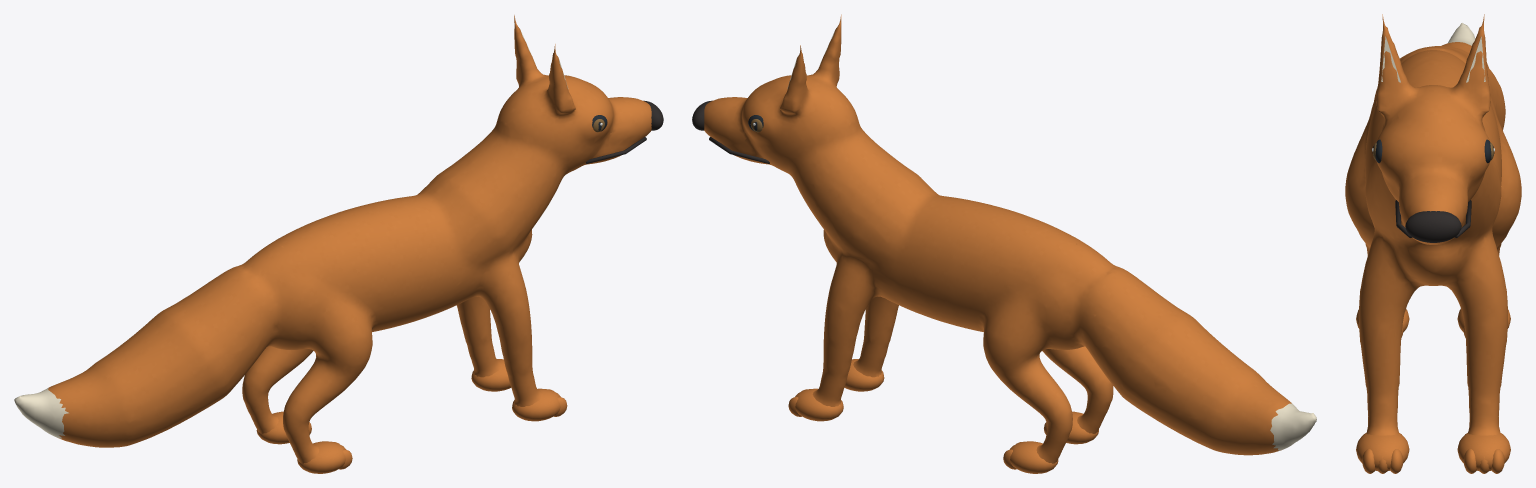
File: fuchs.glb
3 renders of one model, left to right at view 1: azimuth 30°, elevation 25°; view 2: azimuth 150°, elevation 25°; view 3: azimuth 270°, elevation 25°, orthographic. The views are drawn at different scales.
Parts seen in each view (by area): view 1: Continuous anatomical skin, Rounded paw.001, Rounded paw, Rounded paw.002; view 2: Continuous anatomical skin, Rounded paw.003, Rounded paw.002, Rounded paw; view 3: Continuous anatomical skin, Nose, Rounded paw, Rounded paw.002, Toe, Toe.008, Toe.002, Toe.006.
Boxes of the visible parts, left/top/right/bottom form: Continuous anatomical skin: left=14, top=15, right=651, bottom=463; Rounded paw.001: left=297, top=441, right=345, bottom=473; Rounded paw: left=512, top=388, right=560, bottom=421; Rounded paw.002: left=471, top=359, right=510, bottom=391; Continuous anatomical skin: left=704, top=14, right=1316, bottom=463; Rounded paw.003: left=1010, top=441, right=1058, bottom=473; Rounded paw.002: left=795, top=388, right=843, bottom=421; Rounded paw: left=844, top=359, right=884, bottom=391; Continuous anatomical skin: left=1345, top=14, right=1521, bottom=435; Nose: left=1405, top=211, right=1461, bottom=242; Rounded paw: left=1356, top=433, right=1409, bottom=470; Rounded paw.002: left=1457, top=433, right=1510, bottom=470; Toe: left=1362, top=449, right=1375, bottom=473; Toe.008: left=1491, top=449, right=1504, bottom=473; Toe.002: left=1390, top=449, right=1403, bottom=473; Toe.006: left=1463, top=449, right=1476, bottom=473.
Size of the model in its own units: 0.8918 by 0.5 by 0.1727.
Materials: 6 (6 with a texture image).
